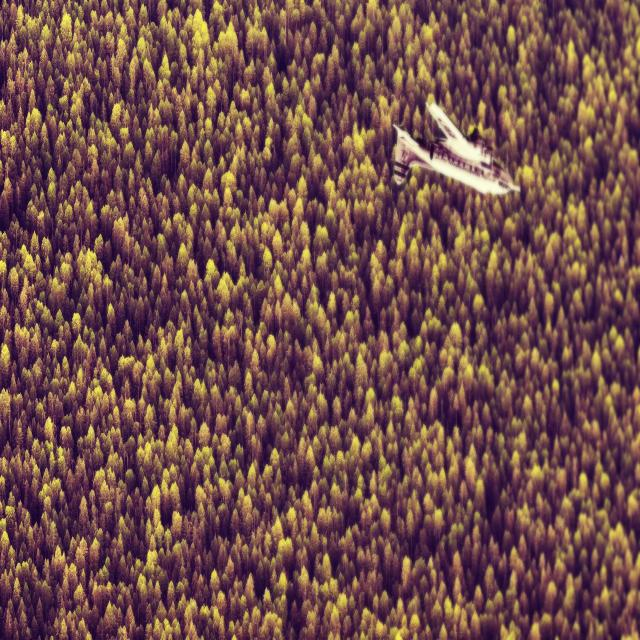airplane: (390, 96, 520, 196)
